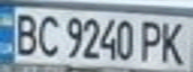0: (115, 16, 139, 62)
2: (78, 15, 103, 60)
4: (100, 15, 121, 61)
9: (60, 12, 84, 60)
B: (9, 9, 42, 56)
C: (33, 11, 63, 57)
K: (157, 18, 190, 65)
P: (136, 17, 166, 63)
